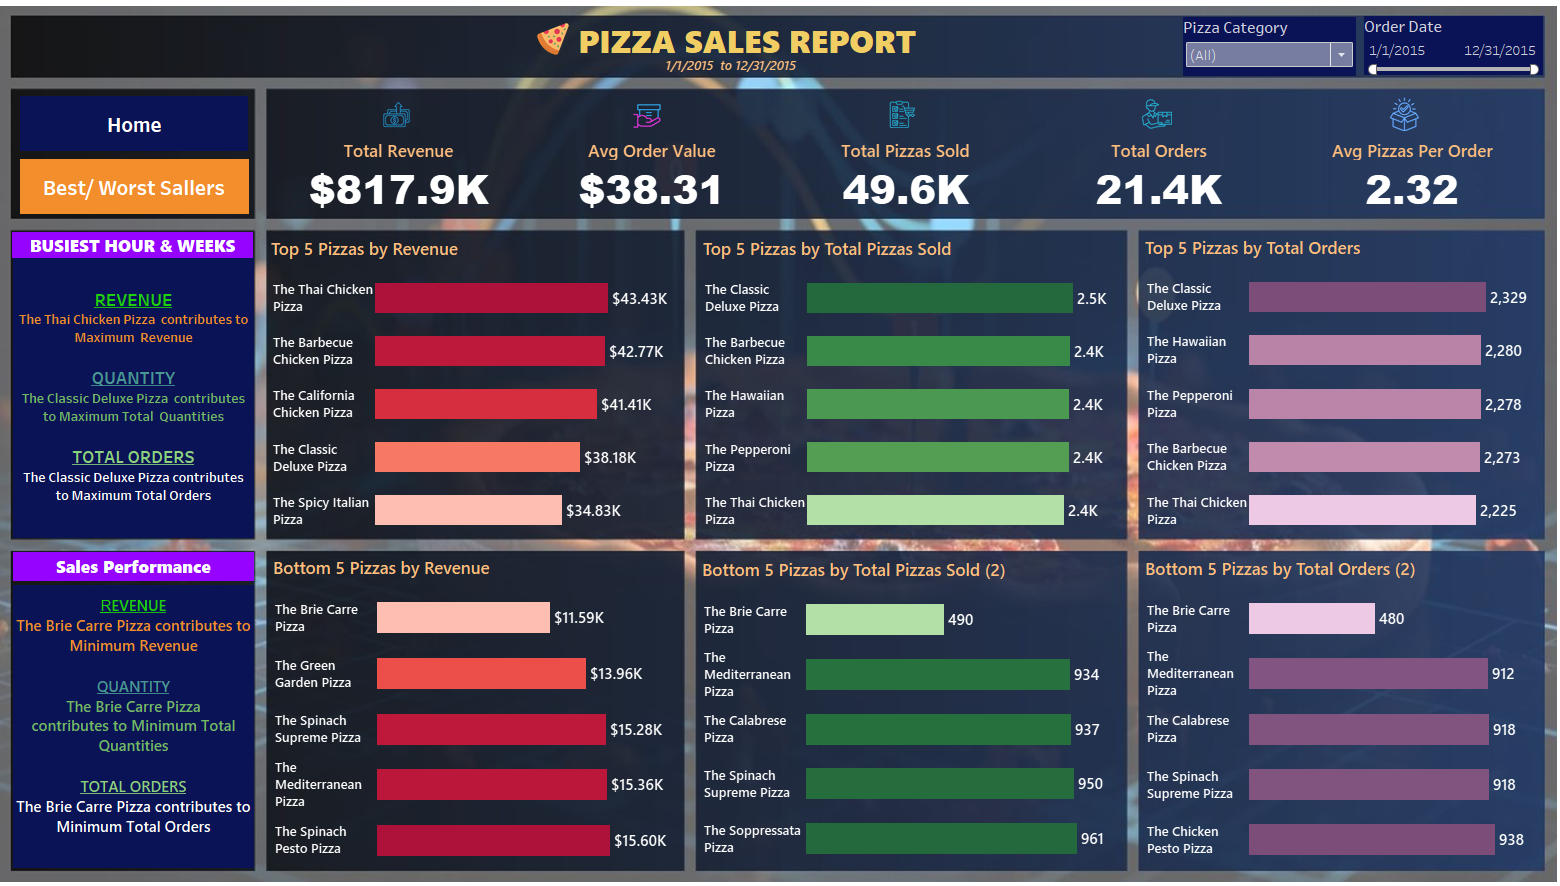

Layout of this report page (visuals, bound fields, positions):
{"tool":"tableau","page":{"name":"Best/ Worst Sa;;ers","canvas":[1600,900],"ordinal":0},"visuals":[{"type":"image","param":"C:/Users/milad/Desktop/tableau_project/Pizza Tableau 2.jpg","box":[8,8,1584,884]},{"type":"text","box":[596,22,345,47]},{"type":"filter","title":"Data Range","param":"[federated.0q091sp1t35awo1501sk10c4yr4u].[none:order_date:qk]","box":[1385,22,179,59]},{"type":"filter","title":"Data Range","param":"[federated.0q091sp1t35awo1501sk10c4yr4u].[none:pizza_category:nk]","box":[1204,23,173,59]},{"type":"image","param":"C:/Users/milad/Desktop/tableau_project/Pizza Sales Images/pizza-slice.png","box":[555,28,37,33]},{"type":"worksheet","title":"Data Range","mark":"Automatic","box":[677,62,149,17]},{"type":"dashboard-object","box":[41,102,228,55]},{"type":"image","param":"C:/Users/milad/Desktop/tableau_project/Pizza Sales Images/order (1).png","box":[1404,103,42,34]},{"type":"image","param":"C:/Users/milad/Desktop/tableau_project/Pizza Sales Images/delivery-man.png","box":[1158,104,39,31]},{"type":"image","param":"C:/Users/milad/Desktop/tableau_project/Pizza Sales Images/profit-growth.png","box":[398,105,39,30]},{"type":"image","param":"C:/Users/milad/Desktop/tableau_project/Pizza Sales Images/shipping-box.png","box":[649,106,37,31]},{"type":"image","param":"C:/Users/milad/Desktop/tableau_project/Pizza Sales Images/order-delivery.png","box":[904,106,39,28]},{"type":"worksheet","title":"KPI Banner","mark":"Automatic","box":[293,146,1267,75]},{"type":"dashboard-object","box":[41,165,229,55]},{"type":"text","box":[33,238,241,26]},{"type":"worksheet","title":"Top 5 Pizzas by Total Orders","mark":"Automatic","rows":["pizza_name"],"cols":["Calculation_540432018465796097"],"box":[1162,238,402,305]},{"type":"worksheet","title":"Top 5 Pizzas by Revenue","mark":"Automatic","rows":["pizza_name"],"cols":["Calculation_540432018465198080"],"box":[288,239,417,304]},{"type":"worksheet","title":"Top 5 Pizzas by Total Pizzas Sold","mark":"Automatic","rows":["pizza_name"],"cols":["Calculation_540432018466385923"],"box":[720,239,425,304]},{"type":"text","box":[34,264,241,280]},{"type":"text","box":[34,558,241,29]},{"type":"worksheet","title":"Bottom 5 Pizzas by Revenue","mark":"Automatic","rows":["pizza_name"],"cols":["Calculation_540432018465198080"],"box":[290,558,414,316]},{"type":"worksheet","title":"Bottom 5 Pizzas by Total Orders","mark":"Automatic","rows":["pizza_name"],"cols":["Calculation_540432018465796097"],"box":[1162,559,400,314]},{"type":"worksheet","title":"Bottom 5 Pizzas by Total Pizzas Sold","mark":"Automatic","rows":["pizza_name"],"cols":["Calculation_540432018466385923"],"box":[719,560,427,312]},{"type":"text","box":[34,591,241,283]}]}

Visuals, with their boxes in screenshot pixels (x1, y1, x2, y2), scaled from the page's 1600x900 canvas onto the 1560x886 screenshot:
image: region(8, 8, 1552, 878)
text: region(581, 22, 917, 68)
"Data Range" filter: region(1350, 22, 1525, 80)
"Data Range" filter: region(1174, 23, 1343, 81)
image: region(541, 28, 577, 60)
"Data Range" worksheet: region(660, 61, 805, 78)
dashboard-object: region(40, 100, 262, 155)
image: region(1369, 101, 1410, 135)
image: region(1129, 102, 1167, 133)
image: region(388, 103, 426, 133)
image: region(633, 104, 669, 135)
image: region(881, 104, 919, 132)
"KPI Banner" worksheet: region(286, 144, 1521, 218)
dashboard-object: region(40, 162, 263, 217)
text: region(32, 234, 267, 260)
"Top 5 Pizzas by Total Orders" worksheet: region(1133, 234, 1525, 535)
"Top 5 Pizzas by Revenue" worksheet: region(281, 235, 687, 535)
"Top 5 Pizzas by Total Pizzas Sold" worksheet: region(702, 235, 1116, 535)
text: region(33, 260, 268, 536)
text: region(33, 549, 268, 578)
"Bottom 5 Pizzas by Revenue" worksheet: region(283, 549, 686, 860)
"Bottom 5 Pizzas by Total Orders" worksheet: region(1133, 550, 1523, 859)
"Bottom 5 Pizzas by Total Pizzas Sold" worksheet: region(701, 551, 1117, 858)
text: region(33, 582, 268, 860)
